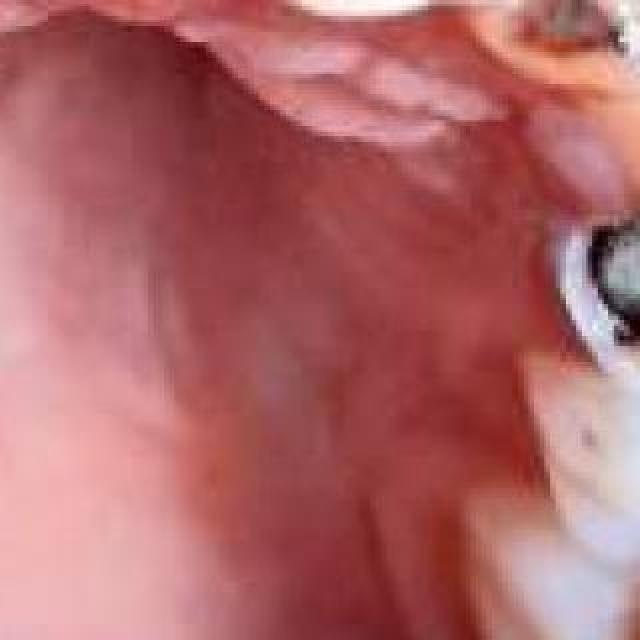cavities: (552, 168, 640, 354), (512, 0, 640, 86)
